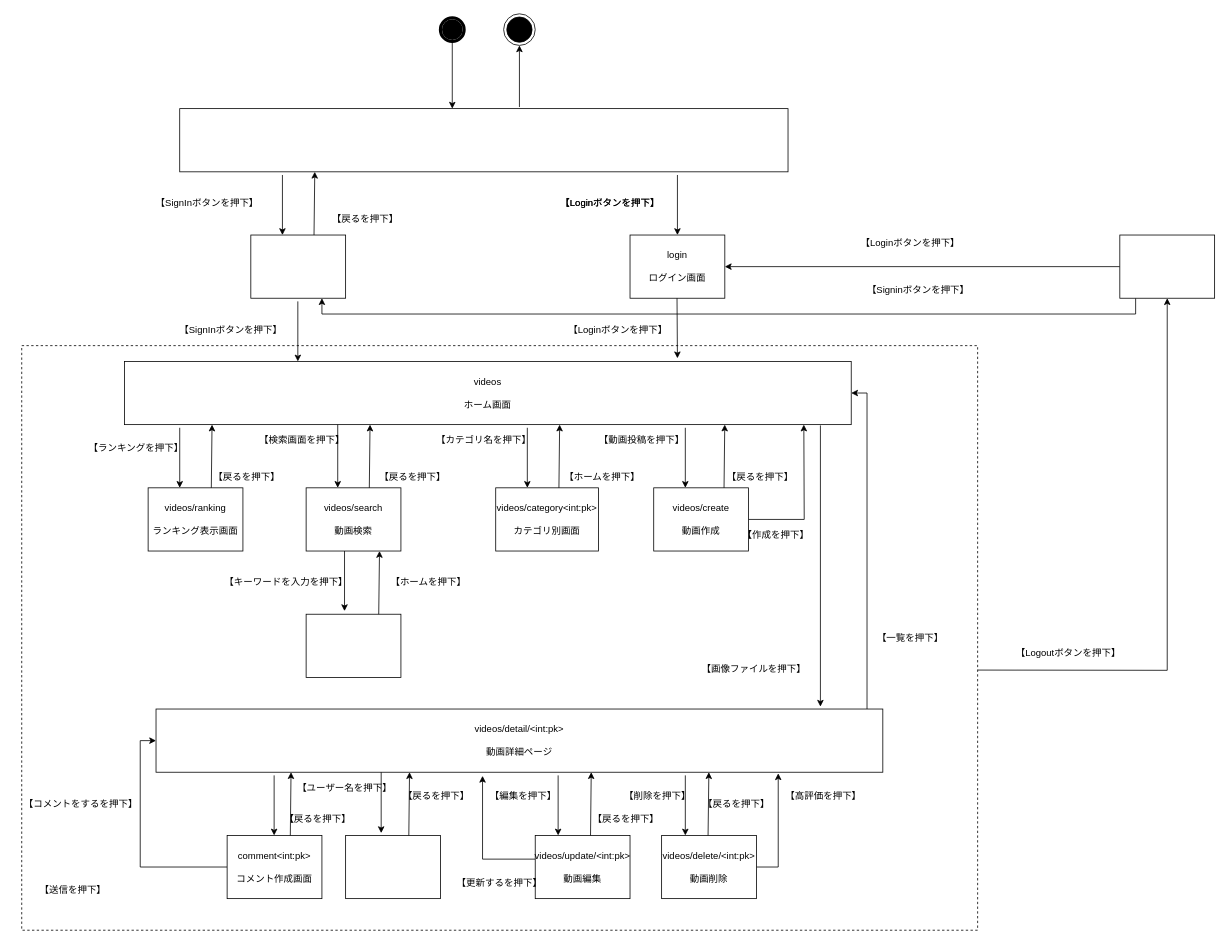
Some shapes in this 1228 by 944 pixel diagram are drawn without their labels. The shapes that lost their labels are listed below. From the top down, each one's centre as x and y in pixels, then its label:
point (483, 140): videos ホーム画面 （閲覧のみ)
point (298, 266): signin 新規登録
point (1167, 266): logout ログアウト
point (353, 645): videos/search 検索結果画面
point (392, 867): user_detail<int:pk> ユーサーページ
